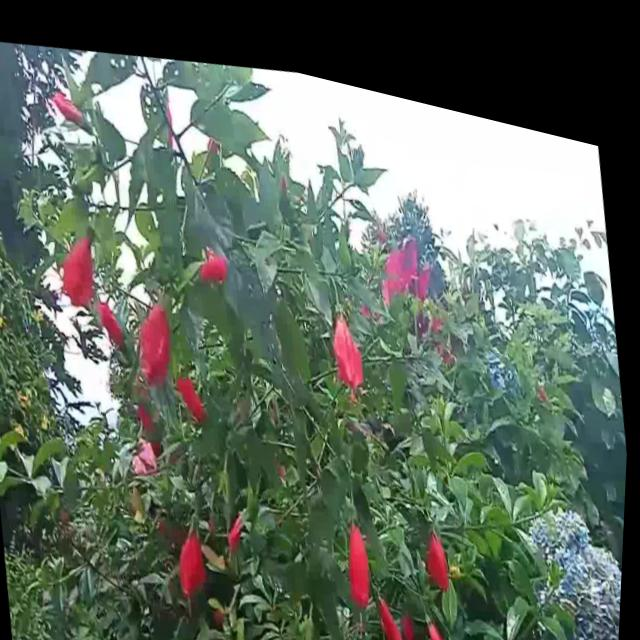Flower: (129, 266, 188, 389), (55, 207, 109, 319), (344, 486, 382, 603), (175, 493, 218, 595), (329, 288, 375, 383), (50, 81, 99, 141), (424, 491, 460, 569), (377, 570, 413, 640), (423, 584, 466, 640), (195, 229, 238, 285), (97, 291, 136, 352), (177, 361, 213, 420), (229, 494, 253, 540)
